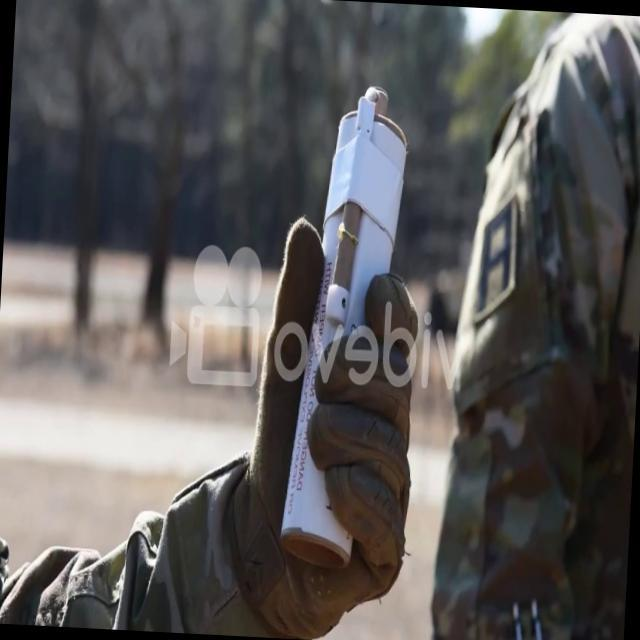grenade: (276, 75, 414, 576)
